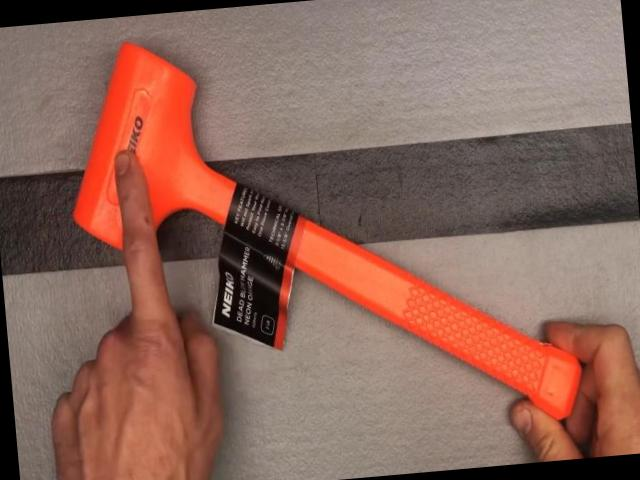hammer: (58, 5, 586, 460)
